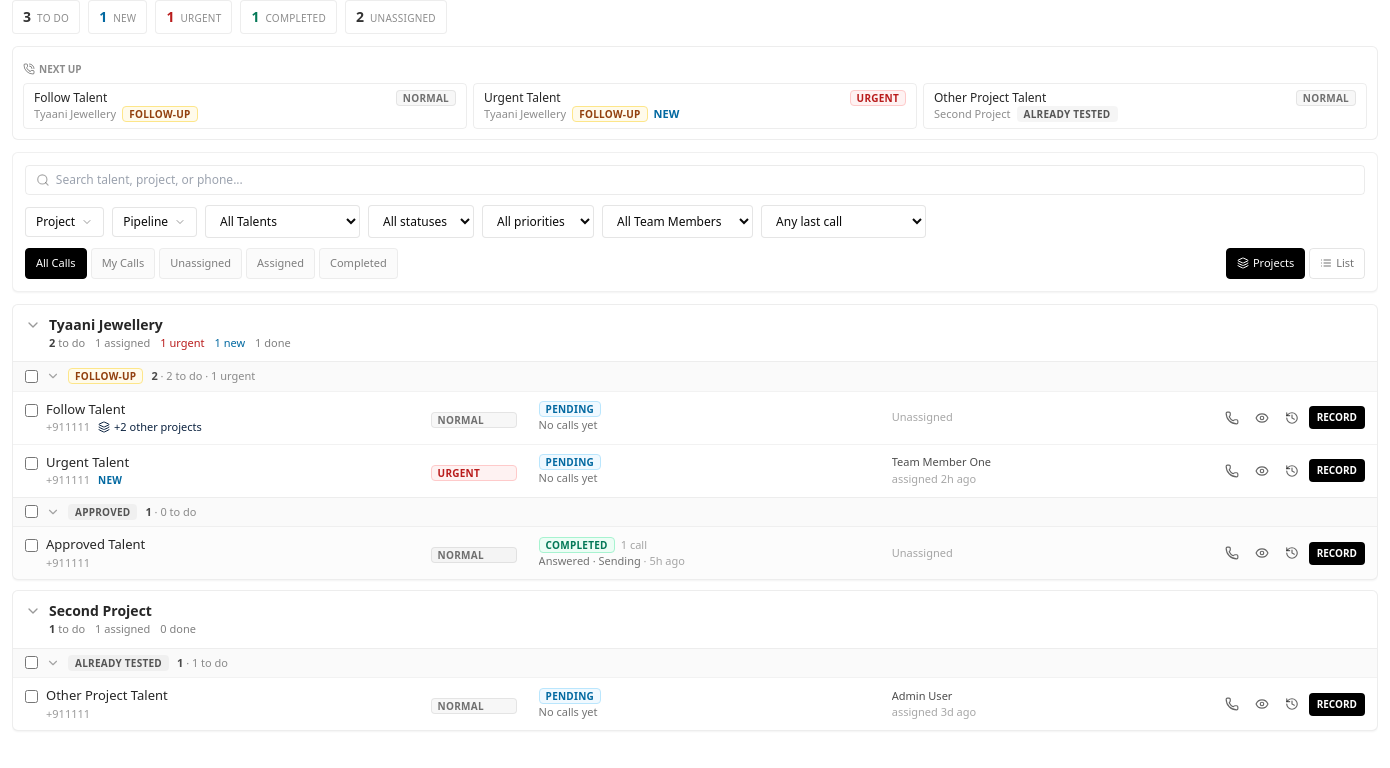
Test case: Calls — project → pipeline grouping › projects and pipeline lanes collapse and expand, keeping the counts visible
The width and height of the screenshot is (1390, 768).
expect the element with test id "call-lane-p-1-follow_up" is shown: met, box [13,361,1377,496]
Click the button with test id "call-project-toggle-p-1". click: (106, 324)
box: [13,304,1377,361]
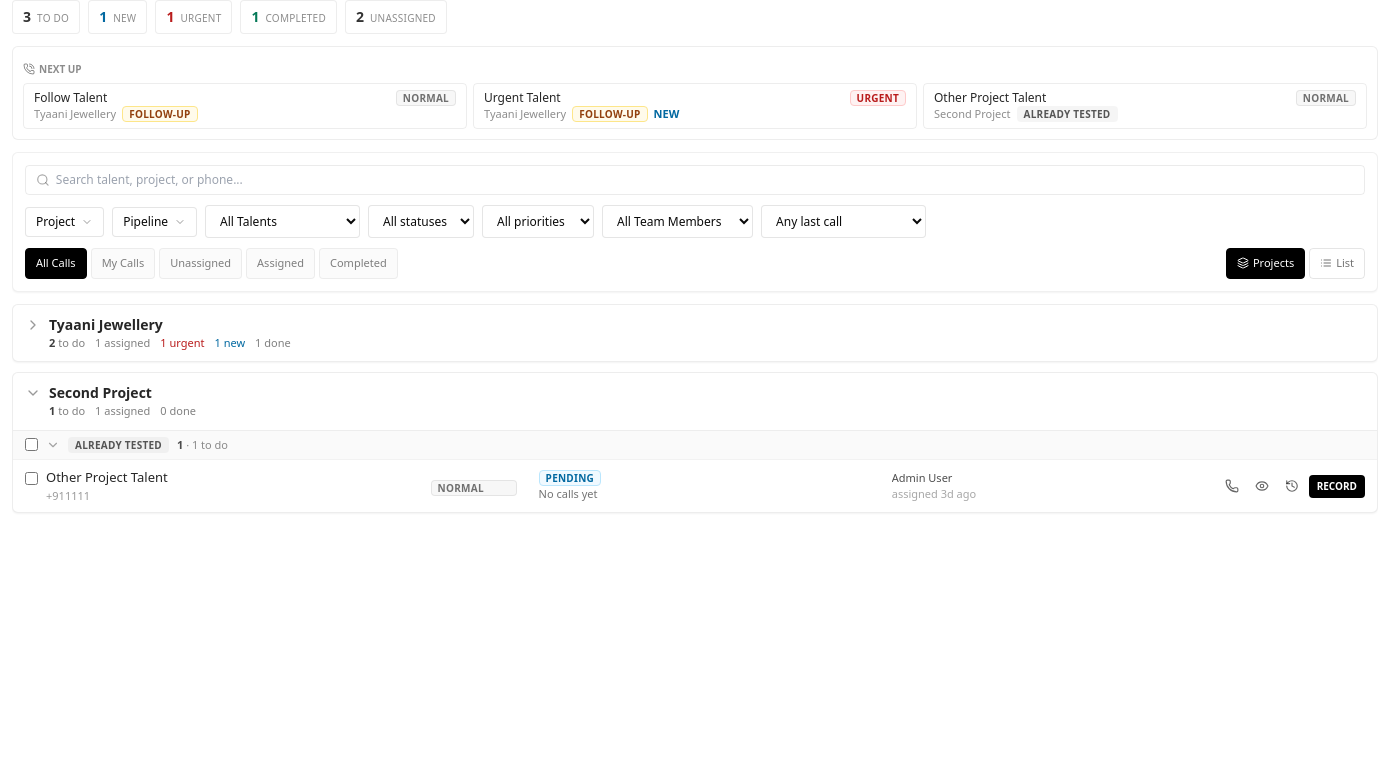
expect the element with test id "call-lane-p-1-follow_up" is gone: met
Click the button with test id "call-project-toggle-p-1". click: (106, 324)
box: [13,304,1377,361]
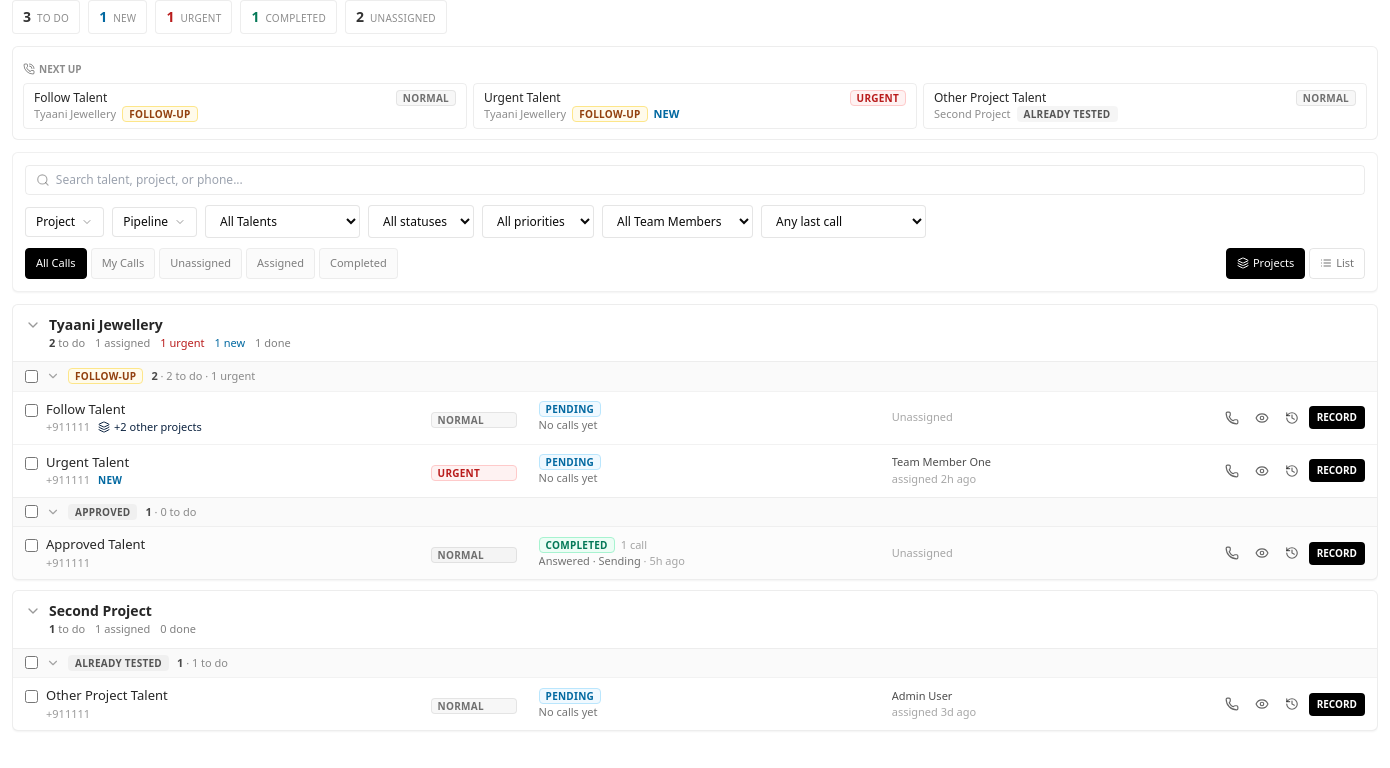
expect the button "Approved Talent" is shown: met, box [46,535,145,554]
Click the button "APPROVED 1 · 0 to do". click: (103, 512)
box: [46,504,1365,520]
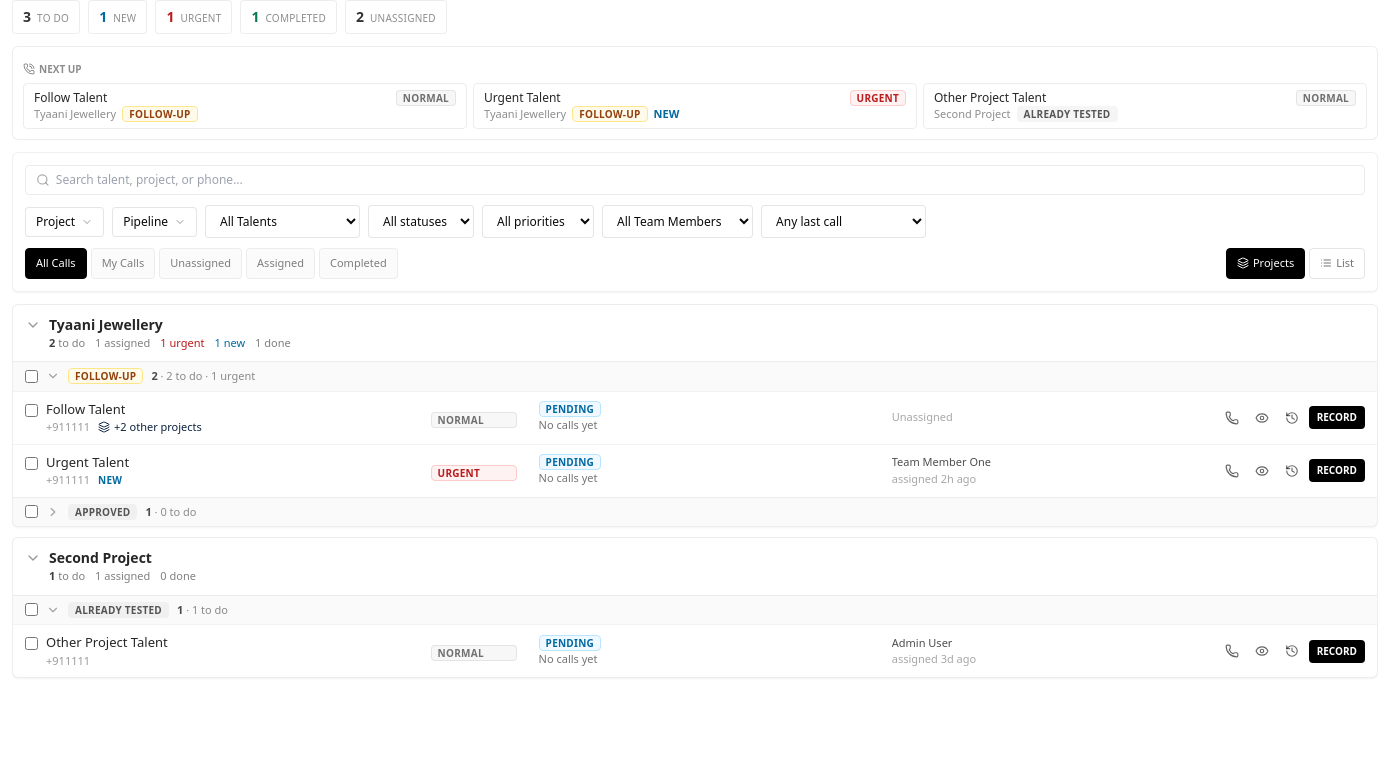
expect the button "Approved Talent" is gone: met
